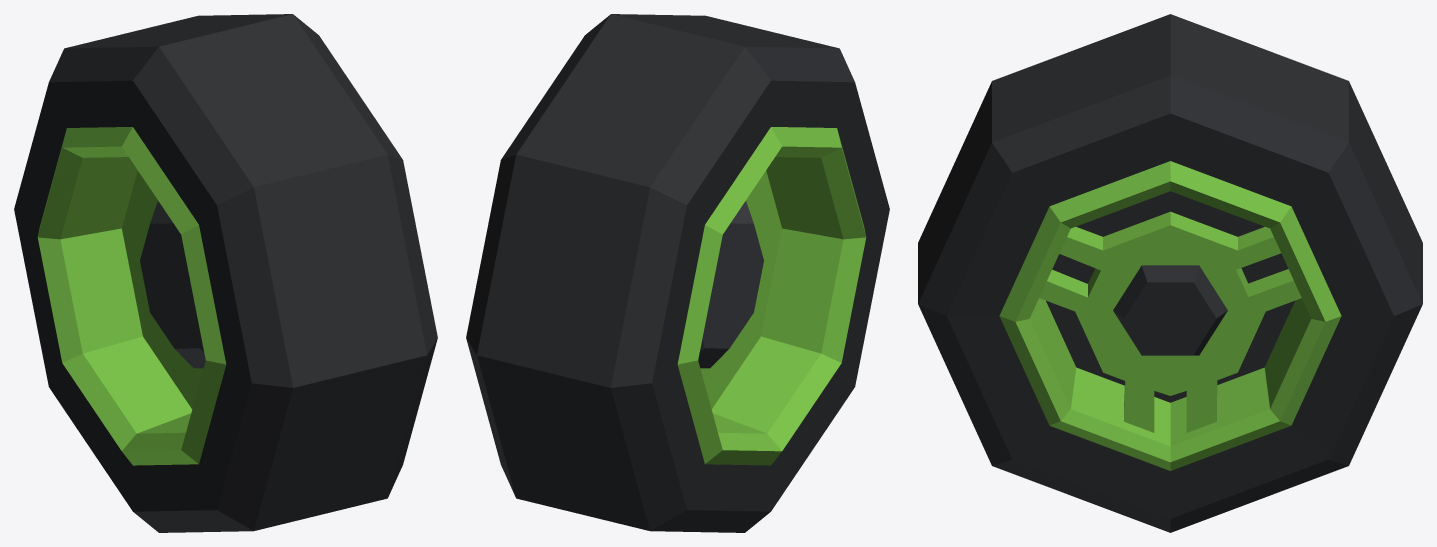
Rendered from SM_Veh_Kart_Wheel_F_03.fbx.
The picture shows the model from 3 angles, left to right: view 1: azimuth 30°, elevation 25°; view 2: azimuth 150°, elevation 25°; view 3: azimuth 270°, elevation 25°; orthographic projection. The views are drawn at different scales.
Visible parts, largest first — view 1: SM_Veh_Kart_Wheel_F_03; view 2: SM_Veh_Kart_Wheel_F_03; view 3: SM_Veh_Kart_Wheel_F_03.
Part boxes in pixels (left/top/right/bottom): SM_Veh_Kart_Wheel_F_03: left=14, top=14, right=437, bottom=532; SM_Veh_Kart_Wheel_F_03: left=466, top=14, right=889, bottom=532; SM_Veh_Kart_Wheel_F_03: left=918, top=14, right=1422, bottom=532.
Bounding box in the file's own units: 13.47 × 29.86 × 29.86.
